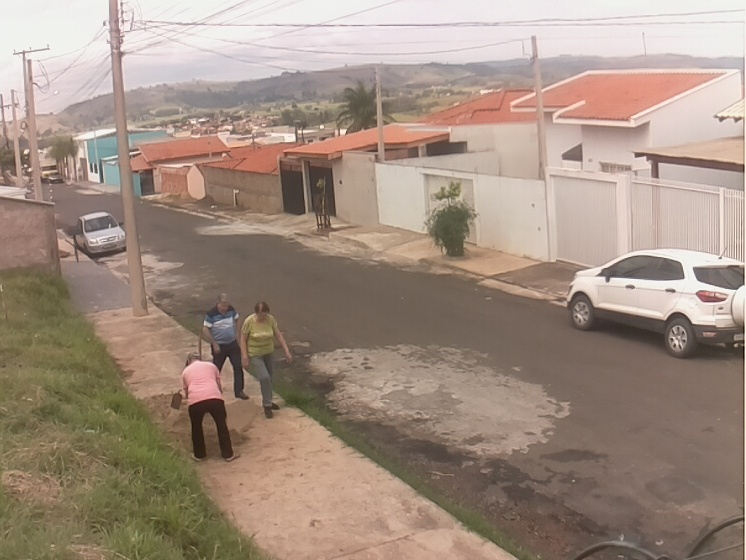person: (180, 351, 240, 464), (238, 301, 293, 419), (201, 292, 250, 400)
